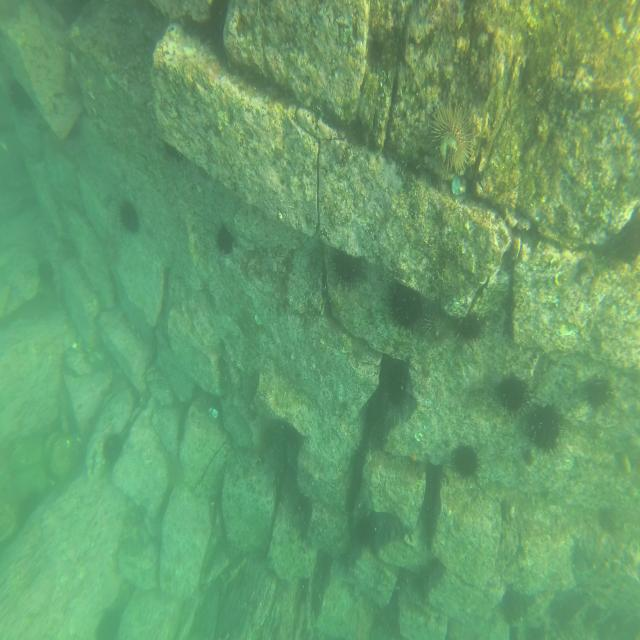echinus: (427, 99, 477, 182), (388, 272, 424, 335), (527, 400, 564, 460), (331, 241, 371, 296), (454, 304, 490, 351), (452, 436, 484, 488), (500, 368, 530, 419), (586, 372, 614, 416), (99, 427, 126, 470), (384, 367, 410, 411), (8, 80, 38, 118), (120, 196, 142, 237), (425, 302, 446, 342), (35, 255, 57, 293), (213, 221, 234, 258), (598, 502, 618, 540)
